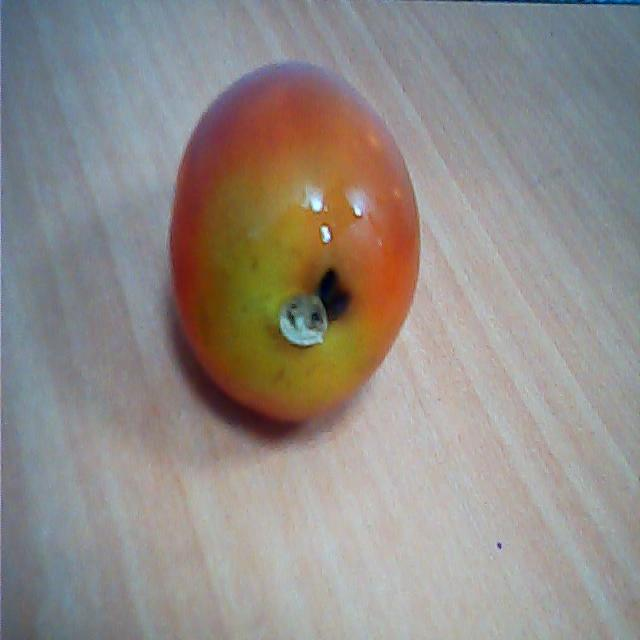defectuoso: (165, 60, 422, 427)
